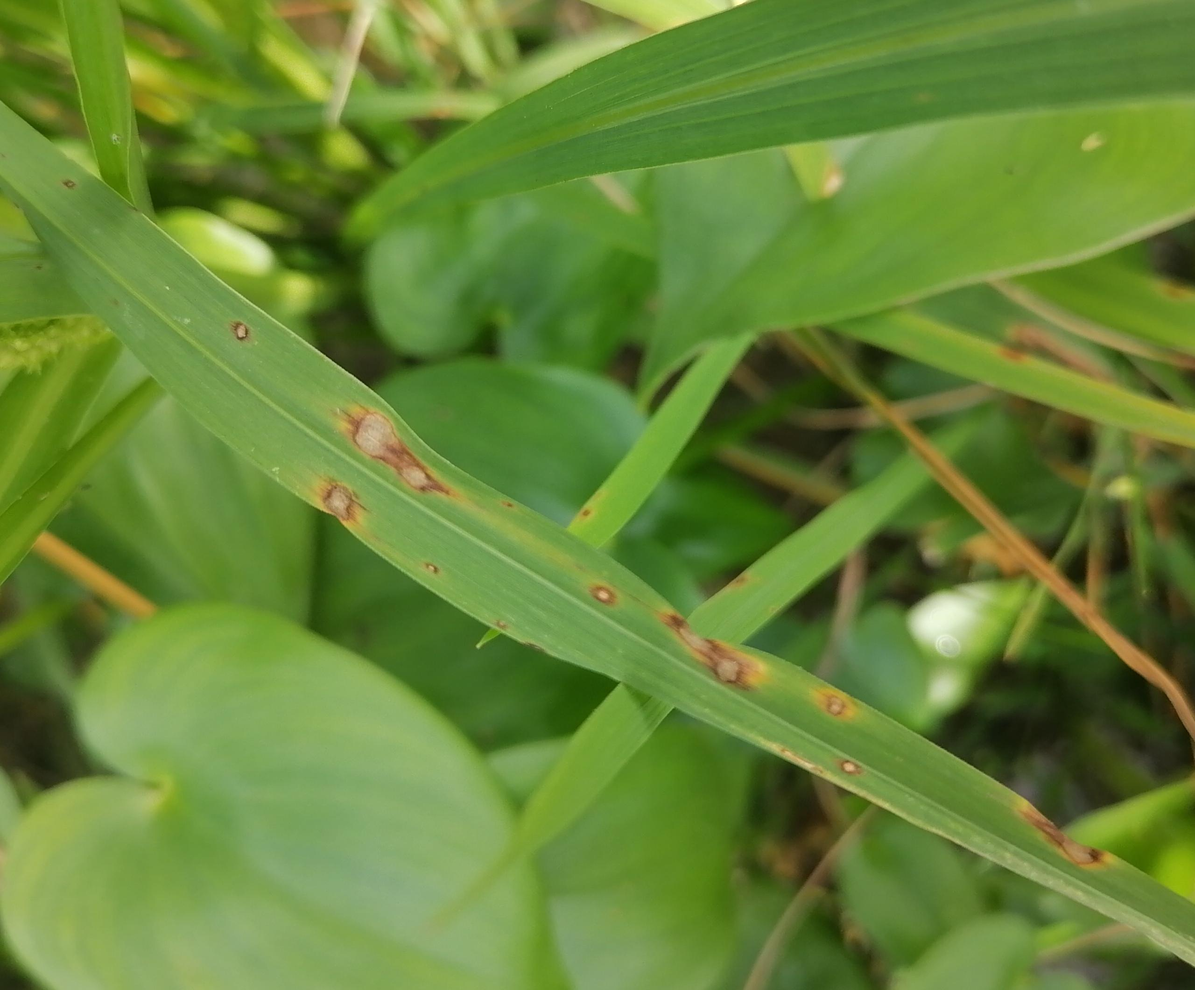Rice blast: (582, 550, 883, 816), (290, 352, 473, 567), (1009, 788, 1121, 890)
